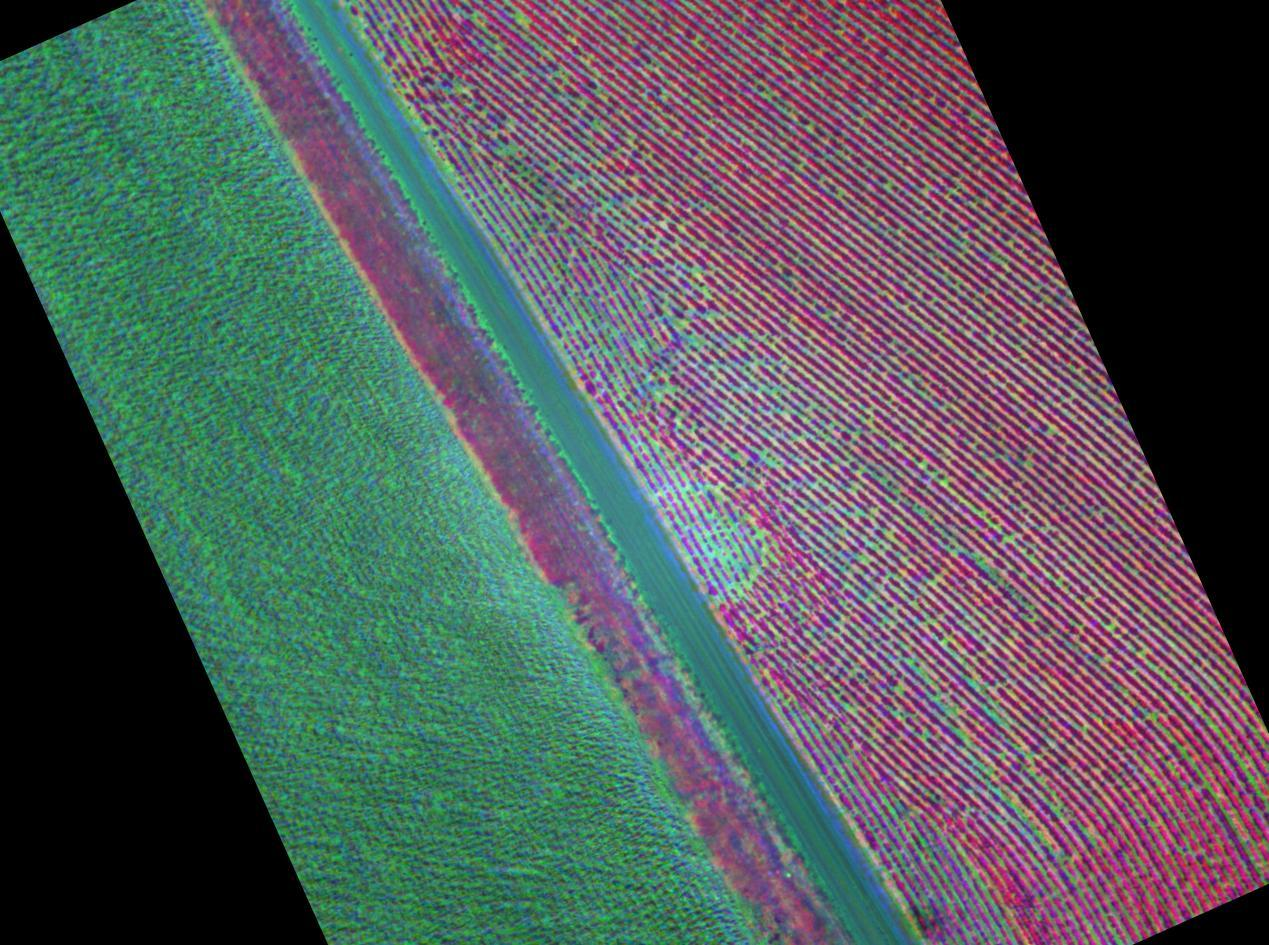dc: (693, 266, 699, 276), (784, 411, 790, 417), (1048, 428, 1053, 434)
